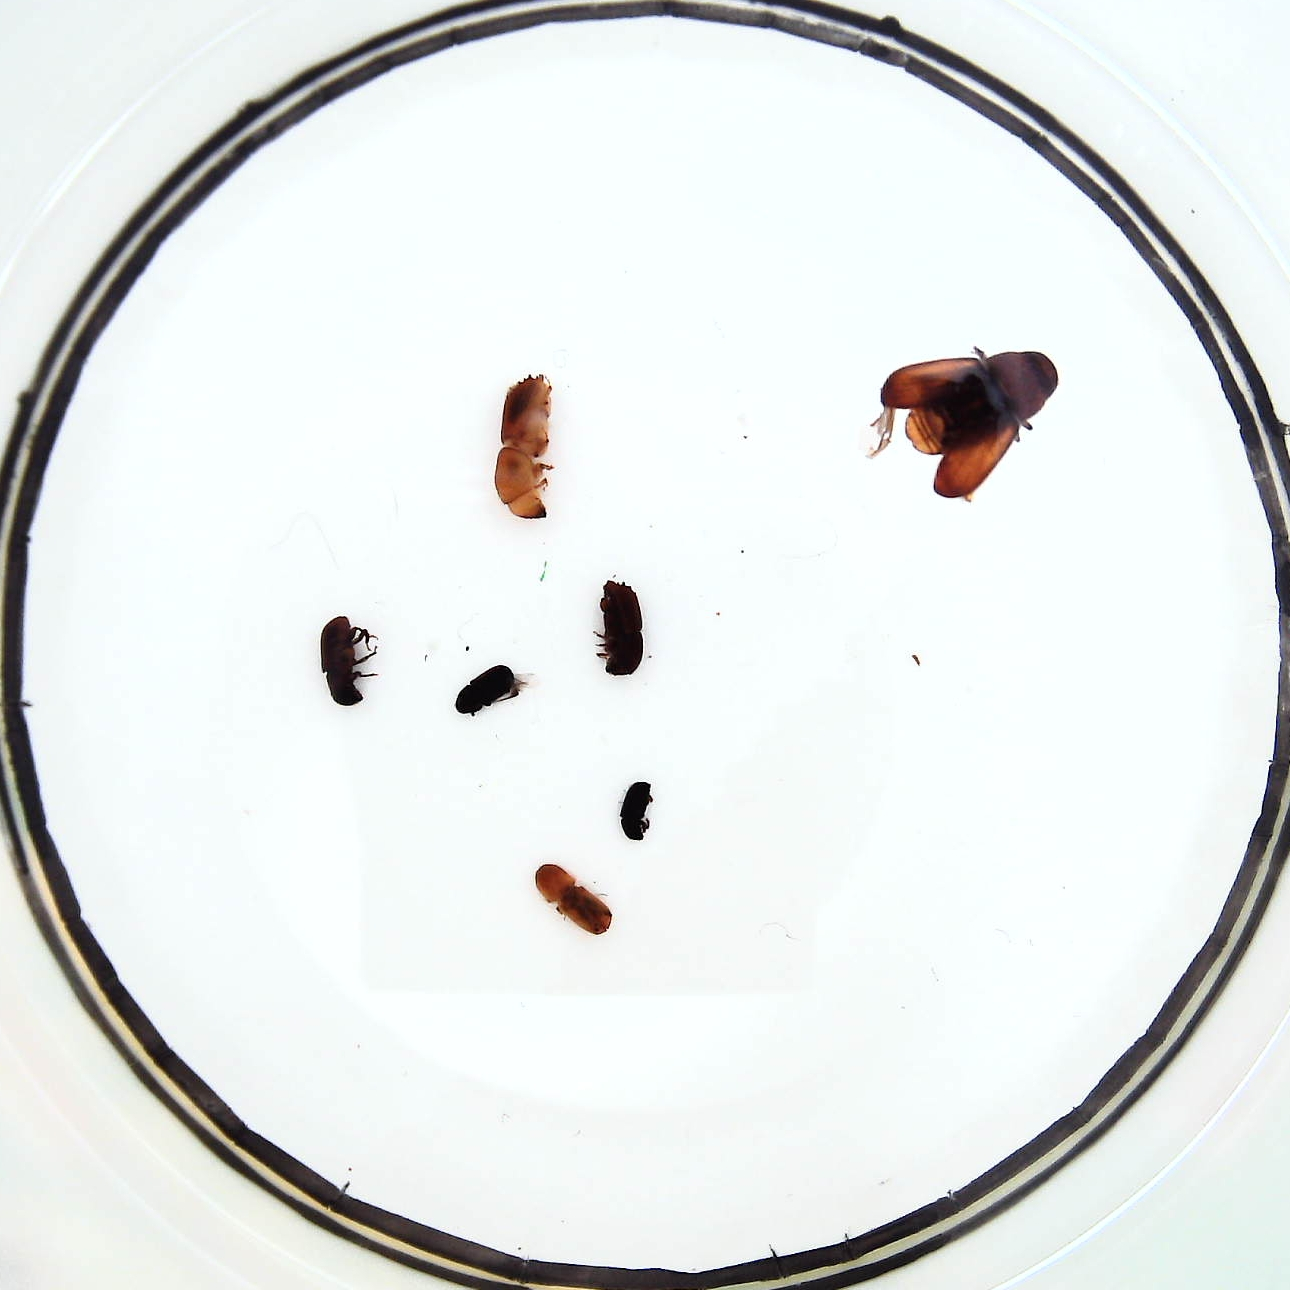Boerner: (494, 374, 555, 520)
Leconte: (882, 348, 1058, 500)
Linnaeus: (597, 579, 649, 678)
acuminatus: (533, 858, 610, 934)
armandi: (319, 612, 366, 705)
coleoptera: (454, 663, 515, 714), (619, 778, 654, 843)
